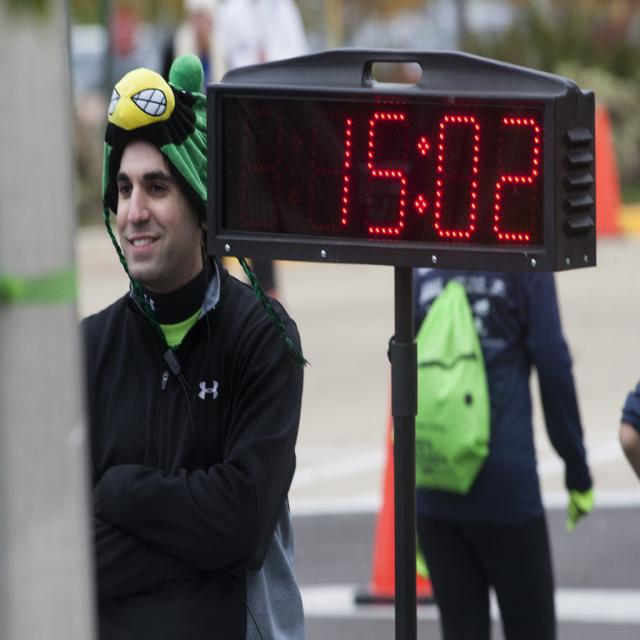Toy: (101, 67, 177, 151)
